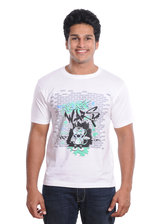clothoes: (26, 64, 137, 190)
